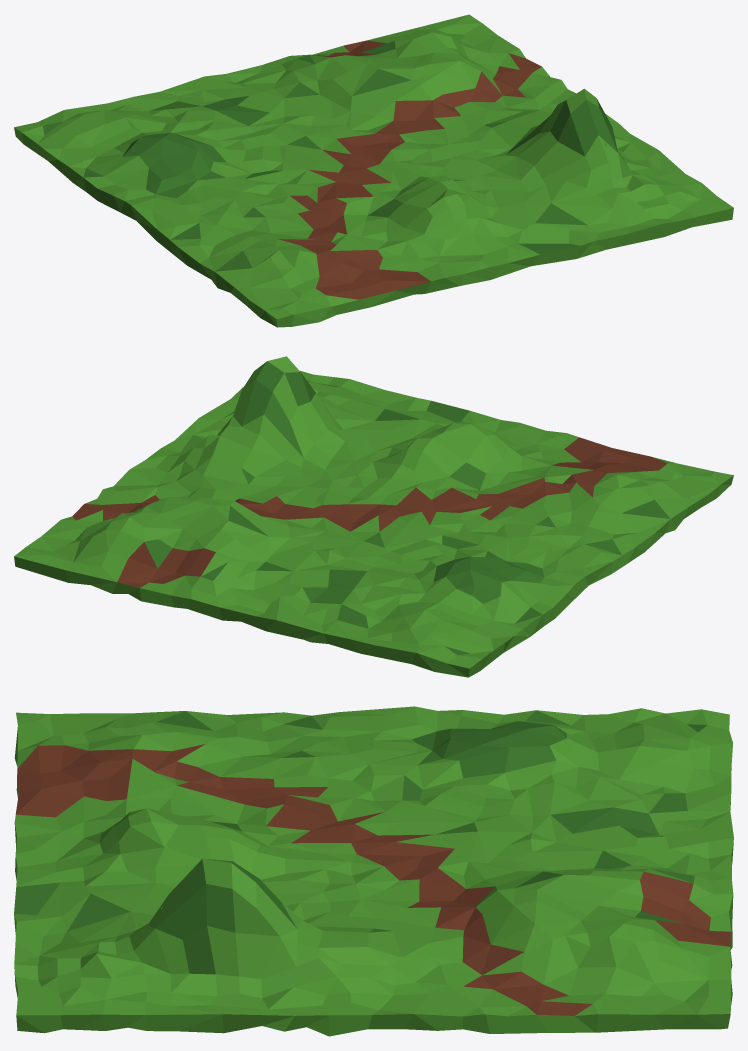
The model's file is land_low_poly_2.fbx.
3 views of the same model, one above another, from view 1: azimuth 30°, elevation 25°; view 2: azimuth 150°, elevation 25°; view 3: azimuth 270°, elevation 25° (orthographic). The views are drawn at different scales.
Visible parts, largest first — view 1: Plane; view 2: Plane; view 3: Plane.
Boxes of the visible parts, x1,y1,x2,y2 form: Plane: (14, 14, 733, 327); Plane: (14, 356, 733, 677); Plane: (14, 706, 733, 1036).
Bounding box in the file's own units: 2023 × 388 × 2014.
